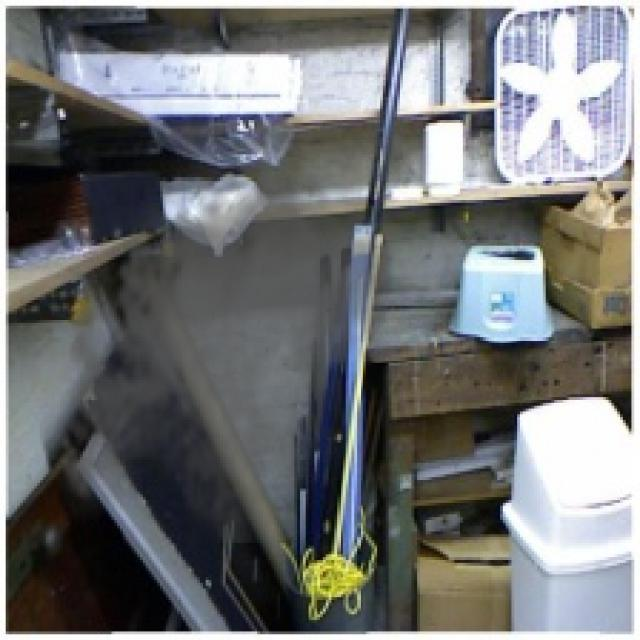Smoke: (46, 151, 400, 543)
